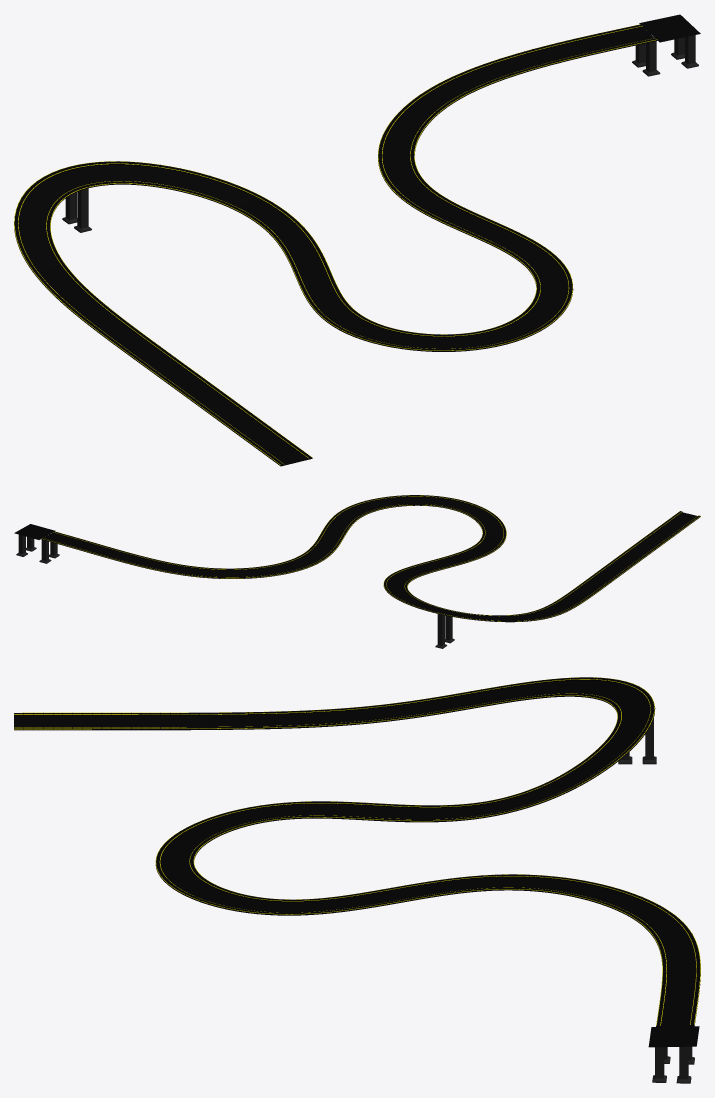
File: LEVEL 1 try.fbx
3 renders of one model, top to bottom at view 1: azimuth 30°, elevation 25°; view 2: azimuth 150°, elevation 25°; view 3: azimuth 270°, elevation 25°, orthographic. The views are drawn at different scales.
Parts seen in each view (by area): view 1: B2.001; view 2: B2.001; view 3: B2.001.
Boxes of the visible parts, left/top/right/bottom form: B2.001: left=14, top=14, right=700, bottom=466; B2.001: left=14, top=495, right=700, bottom=648; B2.001: left=14, top=677, right=700, bottom=1083.
Bounding box in the file's own units: 18437 × 1268 × 14224.
